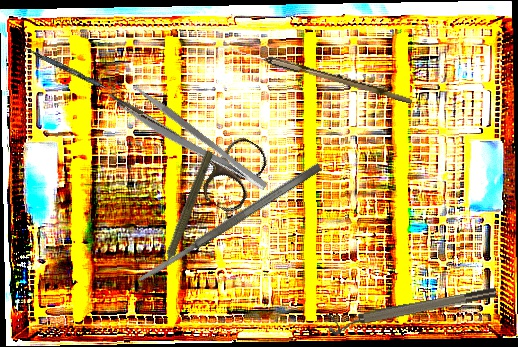Dressing Forceps: (118, 83, 270, 205)
Fixation Ring: (326, 284, 499, 337)
Handpiece: (152, 148, 217, 280)
Iris Scissors: (87, 65, 273, 218)
Spatula Surgical: (136, 161, 323, 285), (19, 44, 127, 100)
Surgical Spoon: (216, 42, 414, 104)
